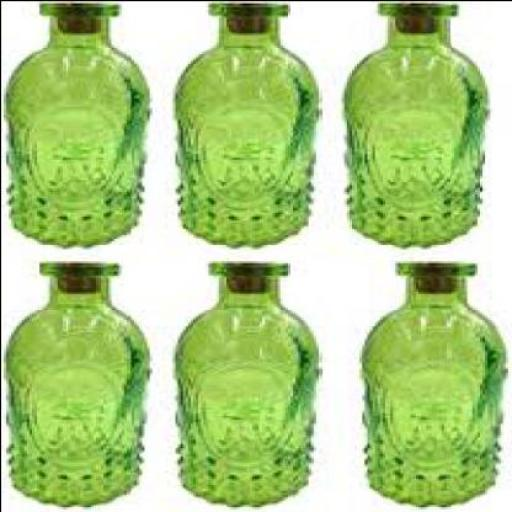glass: (338, 0, 484, 246), (358, 260, 502, 506), (170, 2, 317, 242), (2, 1, 146, 244), (2, 258, 144, 504), (174, 260, 315, 504)
